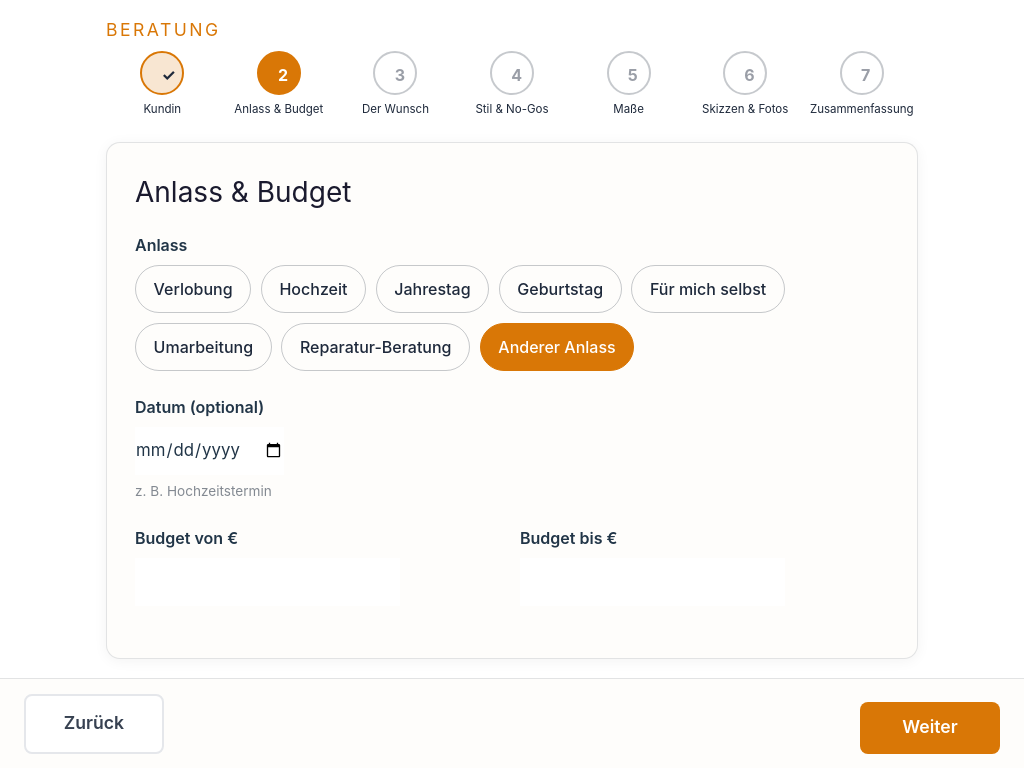
Test: ConsultationWizardPage › Weiter advances the step (empty pendingPatch skips the PATCH by design)
expect the heading "Anlass & Budget" is shown: met, box left=135, top=175, right=351, bottom=209
Click the button "Weiter": coordinates (930, 728) left=860, top=702, right=1000, bottom=754
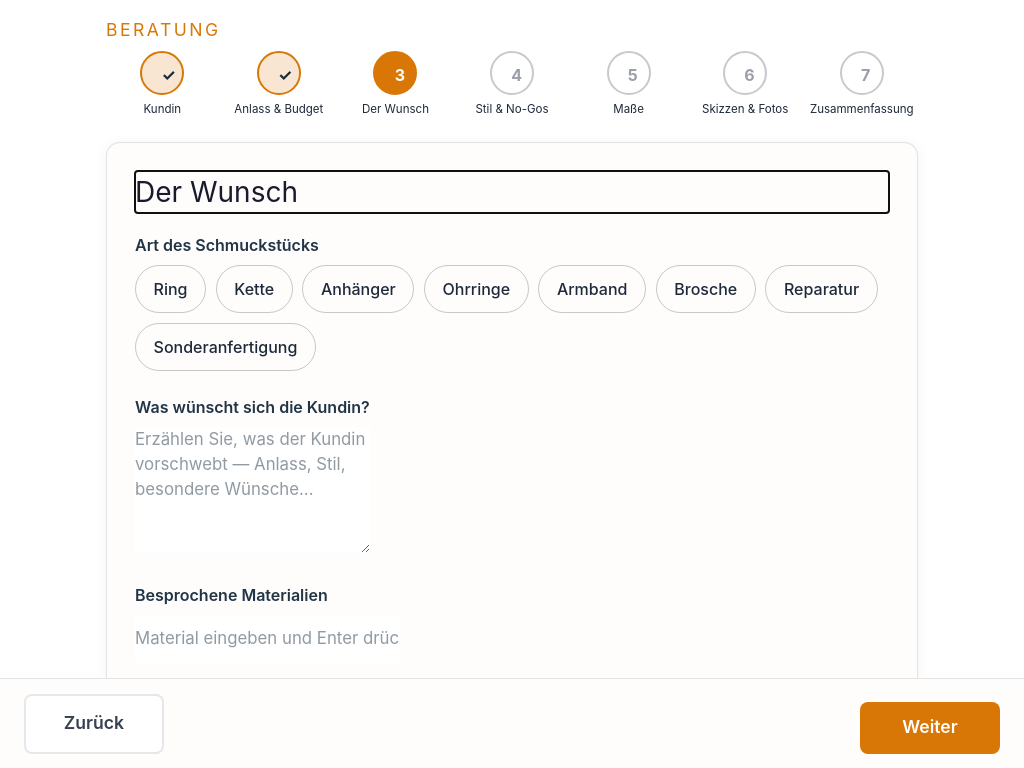
expect the heading "Der Wunsch" is shown: met, box left=135, top=175, right=298, bottom=209
